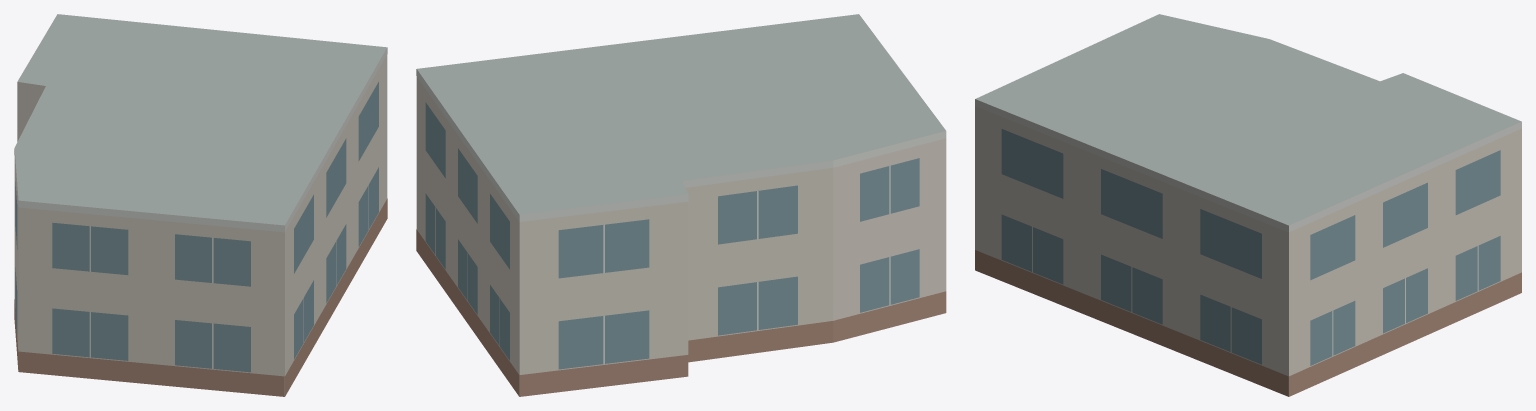
Rendered from survey-upis-32596687.glb.
3 renders of one model, left to right at view 1: azimuth 30°, elevation 25°; view 2: azimuth 150°, elevation 25°; view 3: azimuth 270°, elevation 25°, orthographic. The views are drawn at different scales.
Parts seen in each view (by area): view 1: survey-upis-32596687.tmp; view 2: survey-upis-32596687.tmp; view 3: survey-upis-32596687.tmp.
Part boxes in pixels (bbox=[...]): survey-upis-32596687.tmp: bbox=[14, 14, 387, 396]; survey-upis-32596687.tmp: bbox=[416, 14, 946, 396]; survey-upis-32596687.tmp: bbox=[975, 14, 1521, 396].
Size of the model in its own units: 16.16 by 6.1 by 17.65.
